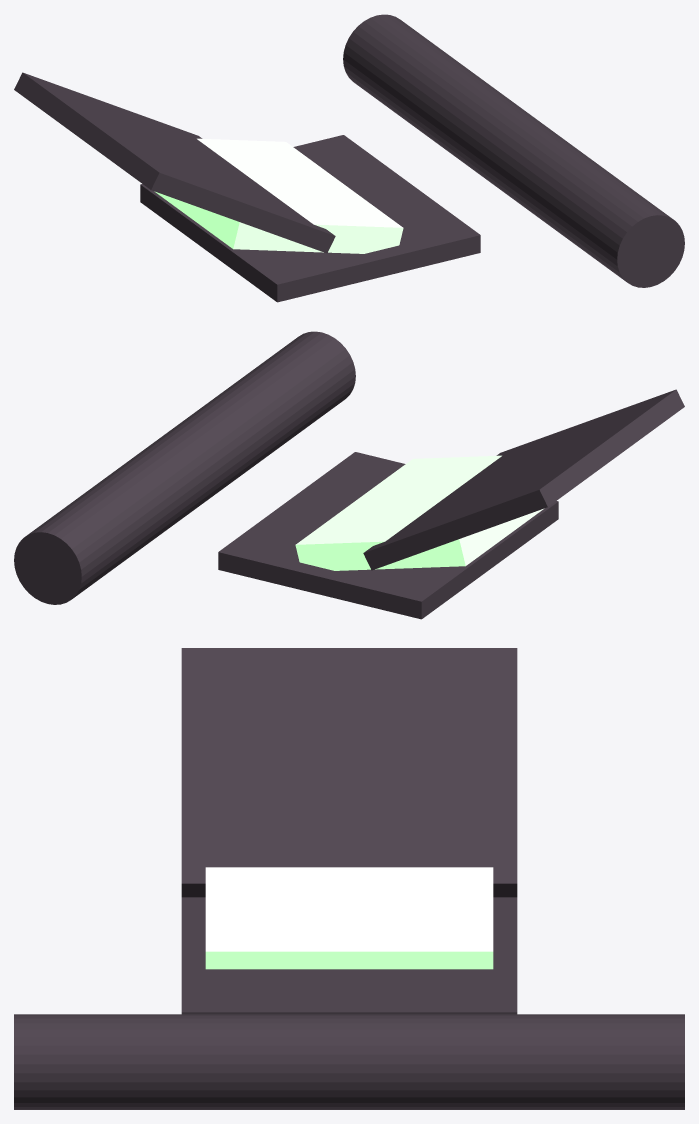
Rendered from necro_tome.glb.
The picture shows the model from 3 angles, top to bottom: view 1: azimuth 30°, elevation 25°; view 2: azimuth 150°, elevation 25°; view 3: azimuth 270°, elevation 25°; orthographic projection. The views are drawn at different scales.
Parts seen in each view (by area): view 1: Spine, BackCover, FrontCover, Pages; view 2: Spine, BackCover, FrontCover, Pages; view 3: FrontCover, Spine, Pages, BackCover.
Part boxes in pixels (<box>): Spine: <box>343,14,684,287</box>; BackCover: <box>140,135,480,302</box>; FrontCover: <box>14,72,335,253</box>; Pages: <box>154,138,403,253</box>; Spine: <box>14,331,355,604</box>; BackCover: <box>218,452,558,619</box>; FrontCover: <box>363,389,684,570</box>; Pages: <box>295,455,544,570</box>; FrontCover: <box>181,648,517,897</box>; Spine: <box>14,1014,684,1109</box>; Pages: <box>205,867,493,969</box>; BackCover: <box>181,897,517,1014</box>.
Bounding box in the file's own units: 0.2745 × 0.0943 × 0.28.
